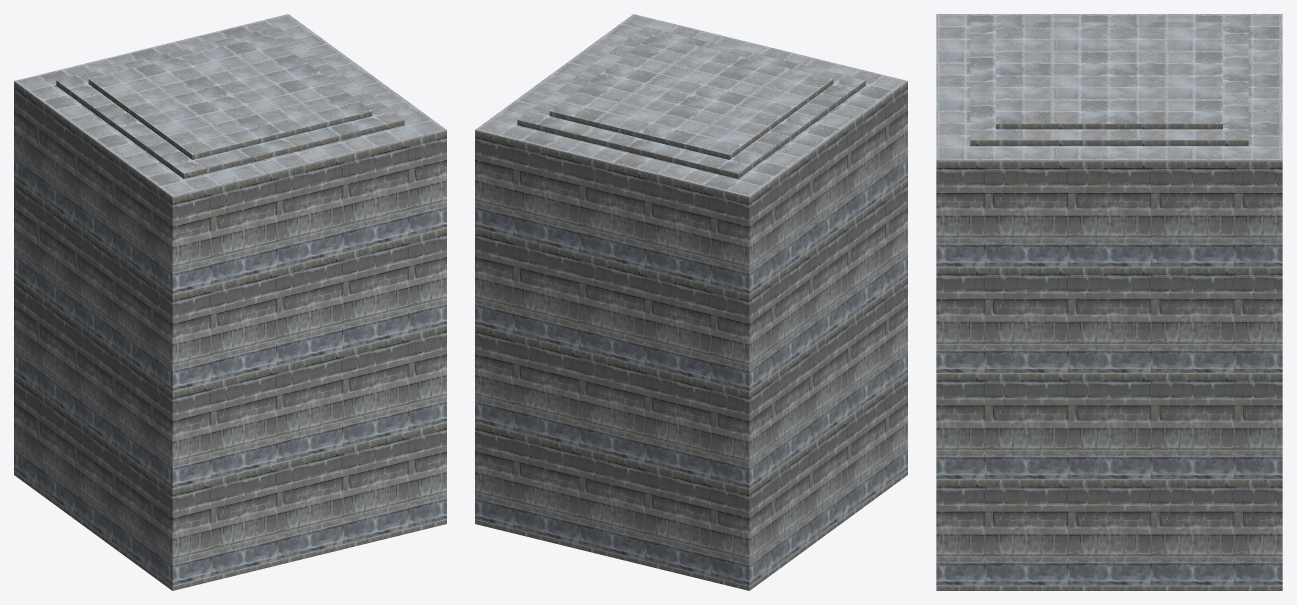
The picture shows the model from 3 angles, left to right: view 1: azimuth 30°, elevation 25°; view 2: azimuth 150°, elevation 25°; view 3: azimuth 270°, elevation 25°; orthographic projection. The views are drawn at different scales.
Parts seen in each view (by area): view 1: jz_ta_0101; view 2: jz_ta_0101; view 3: jz_ta_0101.
Part boxes in pixels (x1,y1,x2,y2): jz_ta_0101: (14, 14, 446, 590); jz_ta_0101: (475, 14, 907, 590); jz_ta_0101: (936, 14, 1282, 590).
Size of the model in its own units: 1477 by 2080 by 1477.
